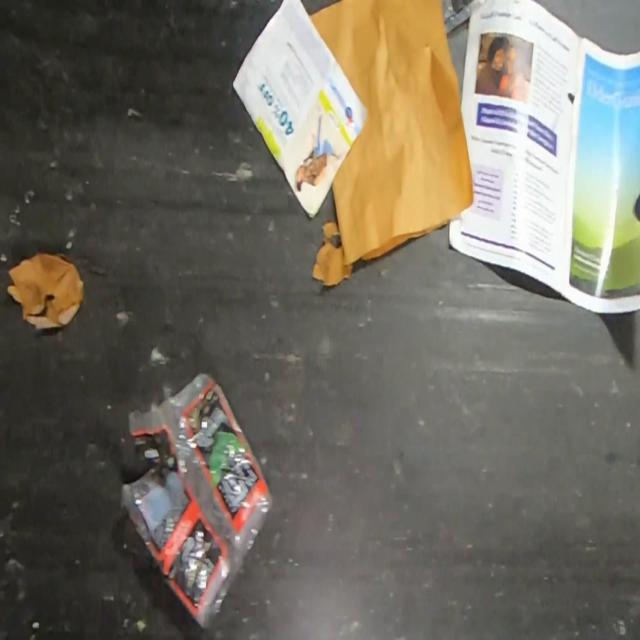soft_plastic: (118, 372, 276, 630)
